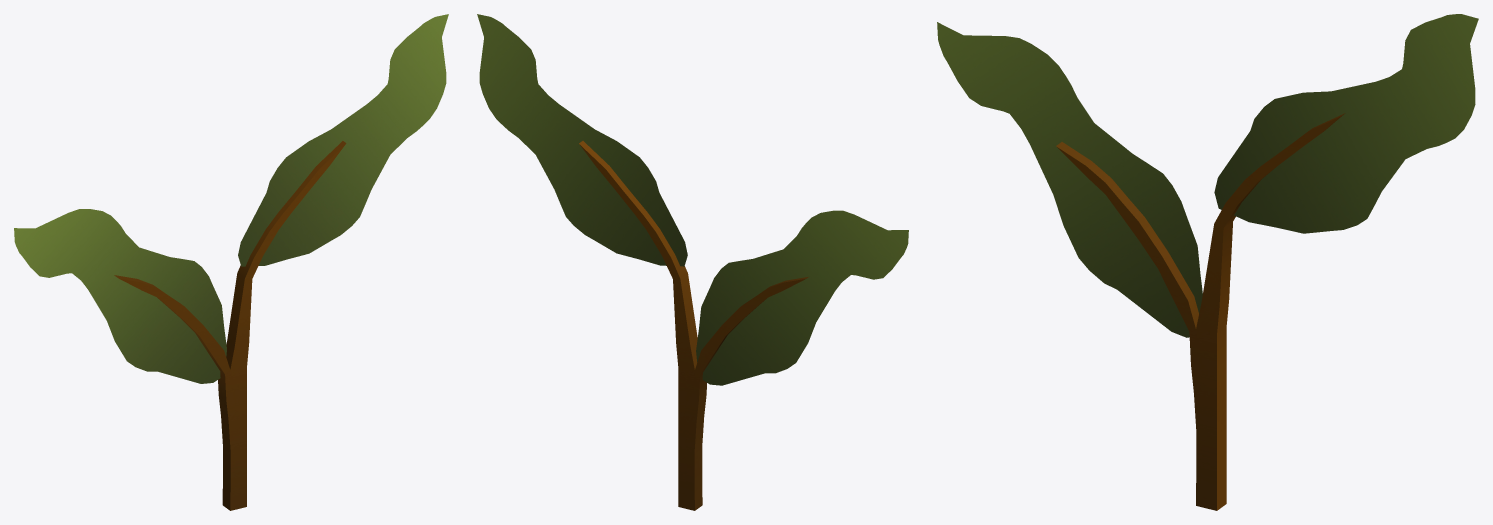
File: Tree Phase 1.fbx
The picture shows the model from 3 angles, left to right: view 1: azimuth 30°, elevation 25°; view 2: azimuth 150°, elevation 25°; view 3: azimuth 330°, elevation 25°; orthographic projection. The views are drawn at different scales.
Parts seen in each view (by area): view 1: Leaf (×2), Tree Phase 1; view 2: Leaf (×2), Tree Phase 1; view 3: Leaf (×2), Tree Phase 1.
Part boxes in pixels (x1=…): Leaf (×2): x1=14, y1=14, x2=448, y2=383; Tree Phase 1: x1=114, y1=141, x2=346, y2=510; Leaf (×2): x1=477, y1=14, x2=908, y2=385; Tree Phase 1: x1=579, y1=141, x2=808, y2=510; Leaf (×2): x1=937, y1=14, x2=1478, y2=337; Tree Phase 1: x1=1056, y1=113, x2=1345, y2=510.
Bounding box in the file's own units: 33.18 × 32.22 × 1.01.
